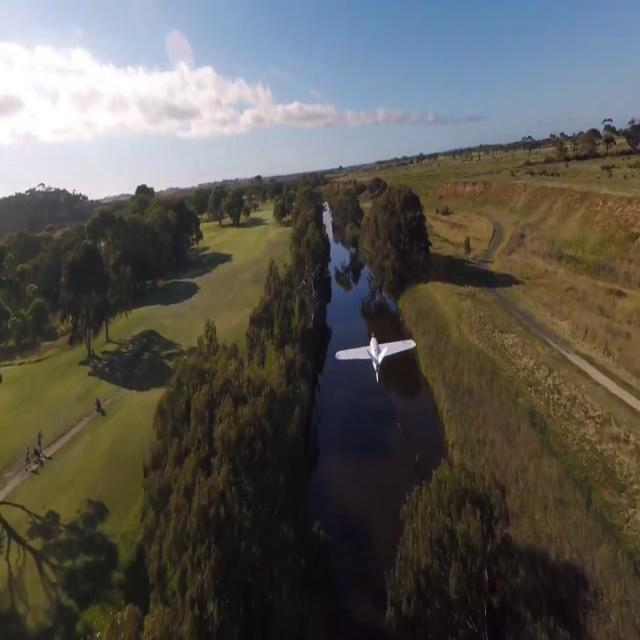iha: (366, 336, 386, 381)
